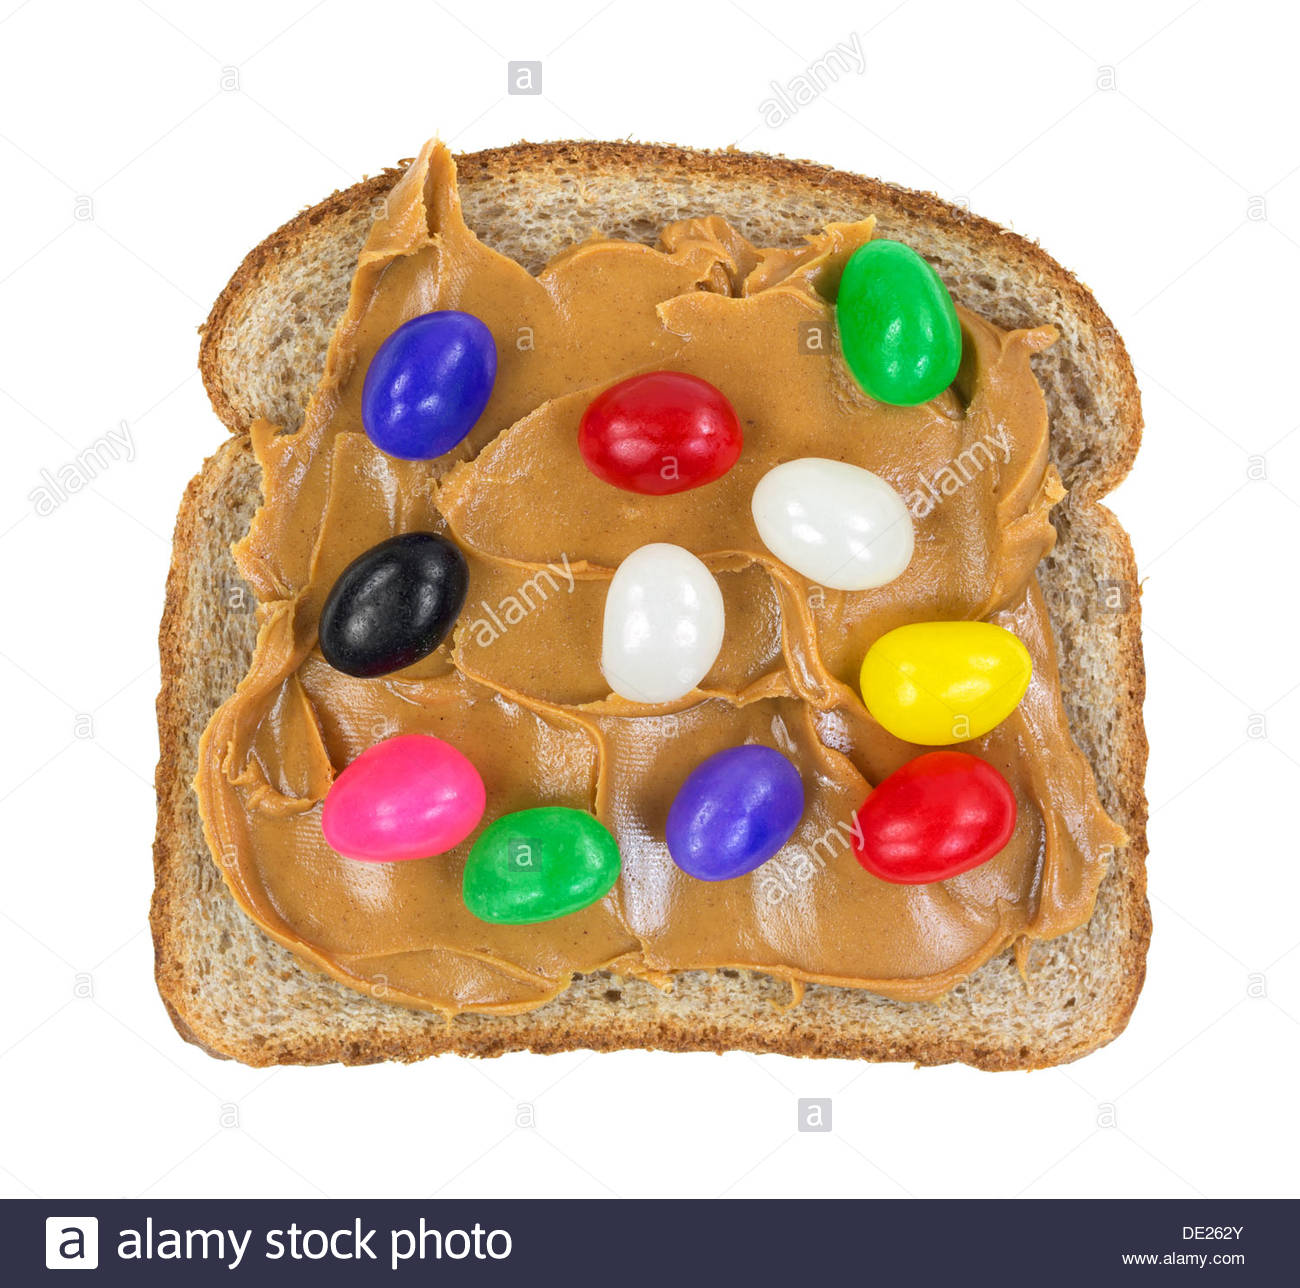slice of bread: (156, 138, 1151, 1079)
